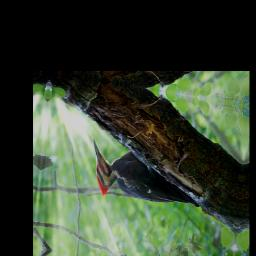Woodpecker: (87, 137, 206, 214)
